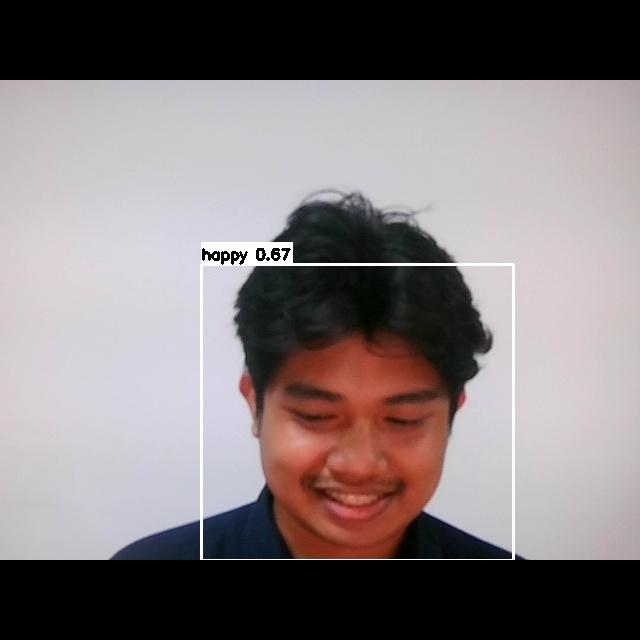Happy: (251, 352, 456, 528)
